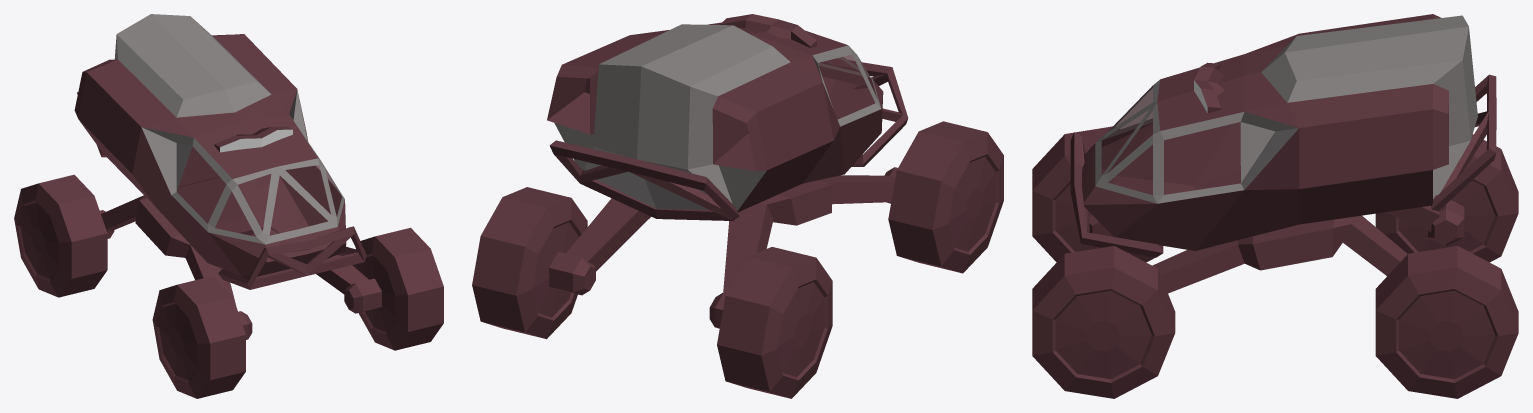
File: scifi-buggy.fbx
3 renders of one model, left to right at view 1: azimuth 30°, elevation 25°; view 2: azimuth 150°, elevation 25°; view 3: azimuth 270°, elevation 25°, orthographic. The views are drawn at different scales.
Visible parts, largest first — view 1: scifi-buggy-base, scifi-buggy-wheel_FR, scifi-buggy-wheel_BR, scifi-buggy-wheel_FL; view 2: scifi-buggy-base, scifi-buggy-wheel_BR, scifi-buggy-wheel_FR, scifi-buggy-wheel_BL; view 3: scifi-buggy-base, scifi-buggy-wheel_BL, scifi-buggy-wheel_FL, scifi-buggy-wheel_BR, scifi-buggy-wheel_FR.
Boxes of the visible parts, x1,y1,x2,y2 form: scifi-buggy-base: [74, 14, 368, 304]; scifi-buggy-wheel_FR: [152, 276, 252, 398]; scifi-buggy-wheel_BR: [14, 174, 114, 297]; scifi-buggy-wheel_FL: [344, 227, 443, 350]; scifi-buggy-base: [547, 14, 908, 292]; scifi-buggy-wheel_BR: [709, 247, 832, 398]; scifi-buggy-wheel_FR: [884, 121, 1003, 273]; scifi-buggy-wheel_BL: [472, 187, 595, 339]; scifi-buggy-base: [1070, 14, 1496, 293]; scifi-buggy-wheel_BL: [1375, 246, 1518, 398]; scifi-buggy-wheel_FL: [1032, 246, 1175, 398]; scifi-buggy-wheel_BR: [1375, 134, 1518, 262]; scifi-buggy-wheel_FR: [1032, 126, 1154, 262].
Size of the model in its own units: 4.05 by 3.88 by 5.66.
